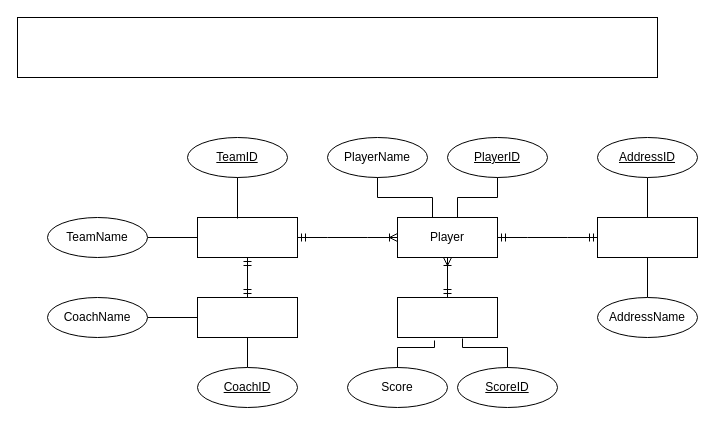
Image size: 715x425. Some labels were removed from this diagram. Here are the shapes that lost their labels. From the top down, the centre of each, then its label:
At point (337, 47): "Spots Club: Player Sheet".
At point (247, 237): "Team".
At point (647, 237): "Addresses".
At point (247, 317): "Coachs".
At point (447, 317): "AverageScore".
